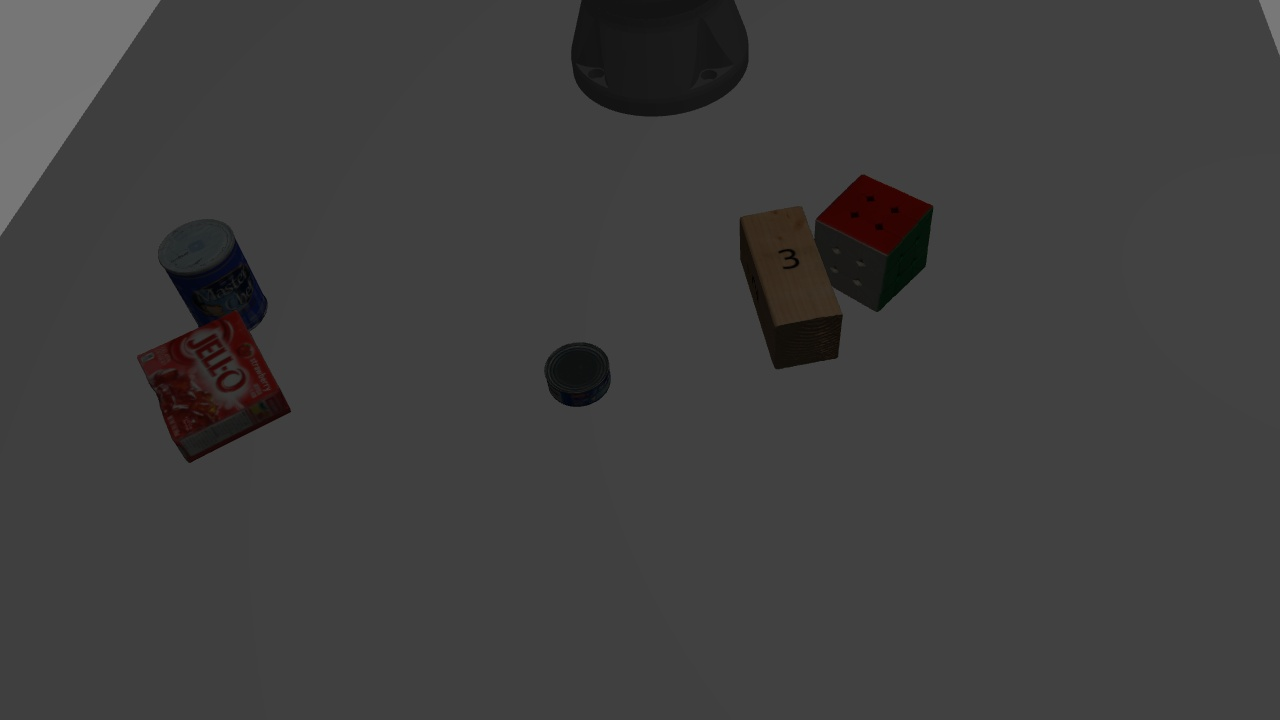gelatin_box: (134, 322, 287, 460)
master_chef_can: (154, 214, 278, 335)
rubiks_cube: (810, 175, 937, 302)
tuna_fish_can: (537, 340, 618, 411)
wood_block: (733, 203, 847, 368)
